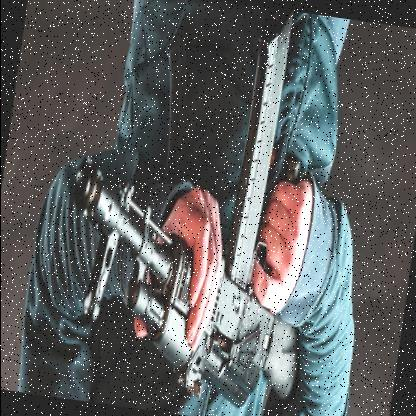rifle: (48, 12, 355, 412)
